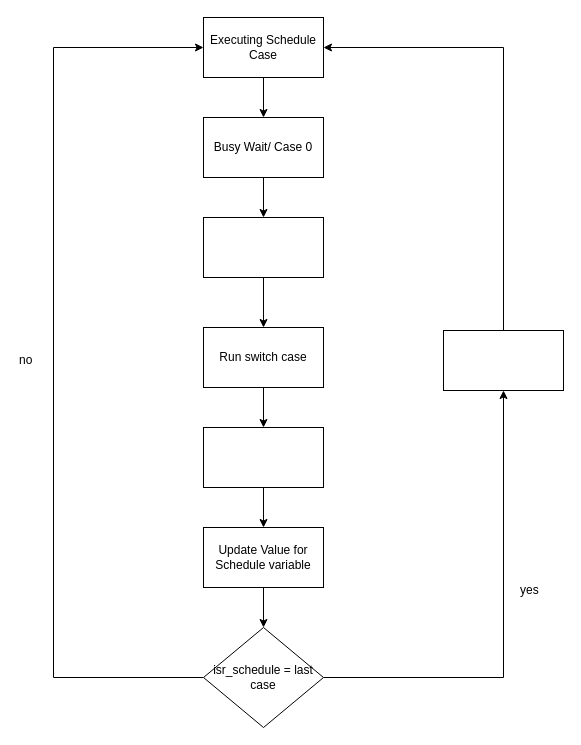
Some shapes in this 581 by 745 pixel diagram are drawn without their labels. The shapes that lost their labels are listed below. From the top down, each one's centre as x and y in pixels, then its label:
At [263,247]: "Interrupt".
At [503,360]: "reset value of Timer/Counter".
At [263,457]: "Update time for next interrupt".
